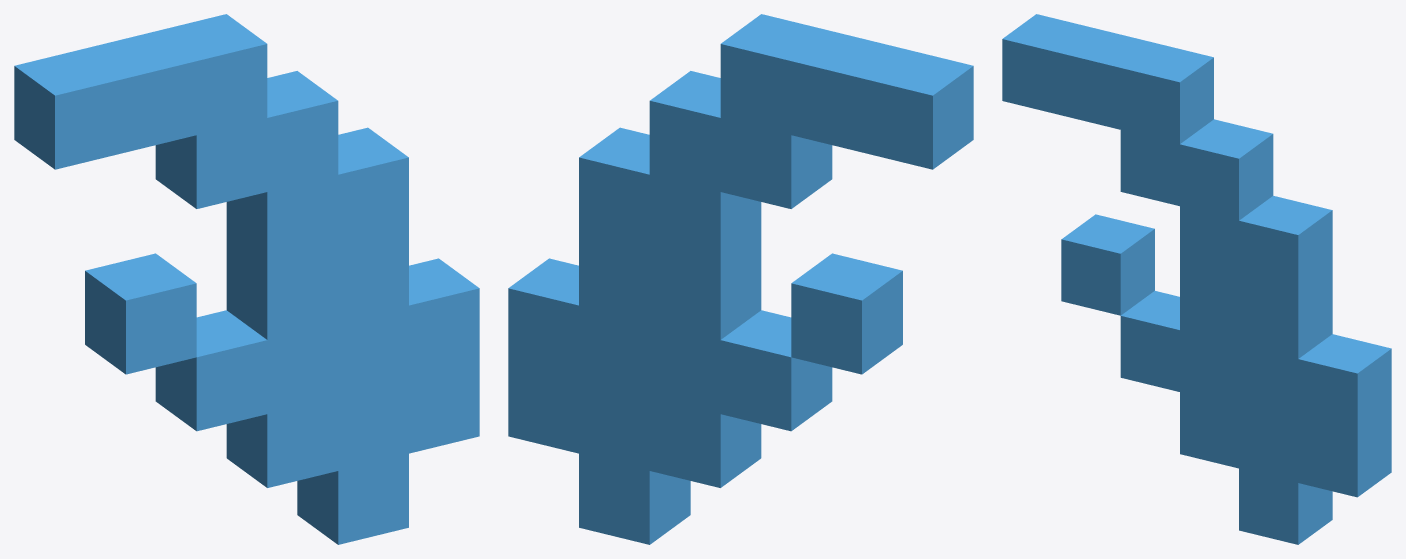
The model's file is Gauntlet-Blue.vox.obj.
3 views of the same model, side by side, from view 1: azimuth 30°, elevation 25°; view 2: azimuth 150°, elevation 25°; view 3: azimuth 330°, elevation 25° (orthographic). The views are drawn at different scales.
Size of the model in its own units: 0.6 by 0.7 by 0.1.
1 material, 1 textured.
